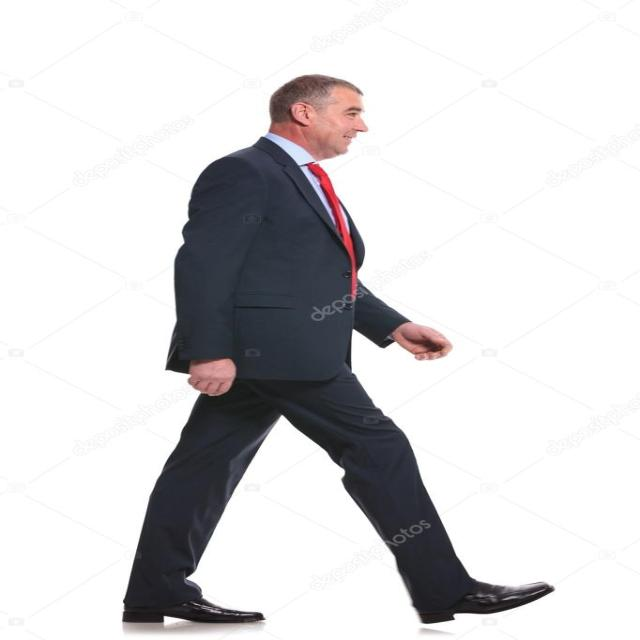Person: (121, 73, 552, 628)
